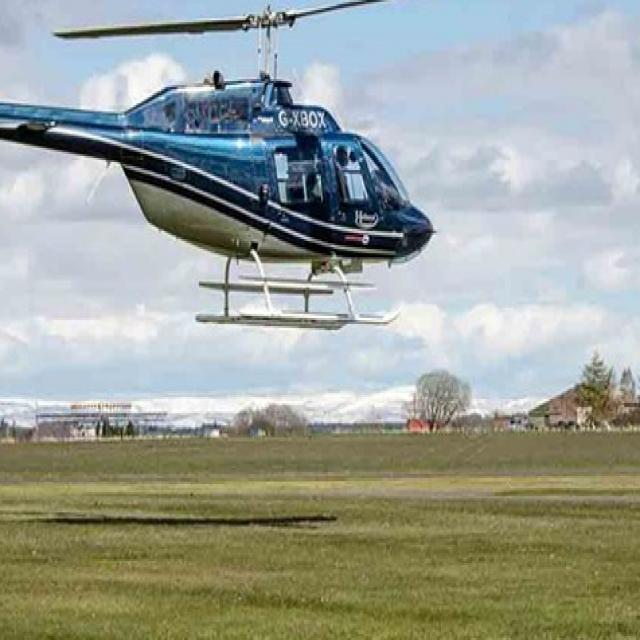helicopter: (1, 1, 524, 335)
